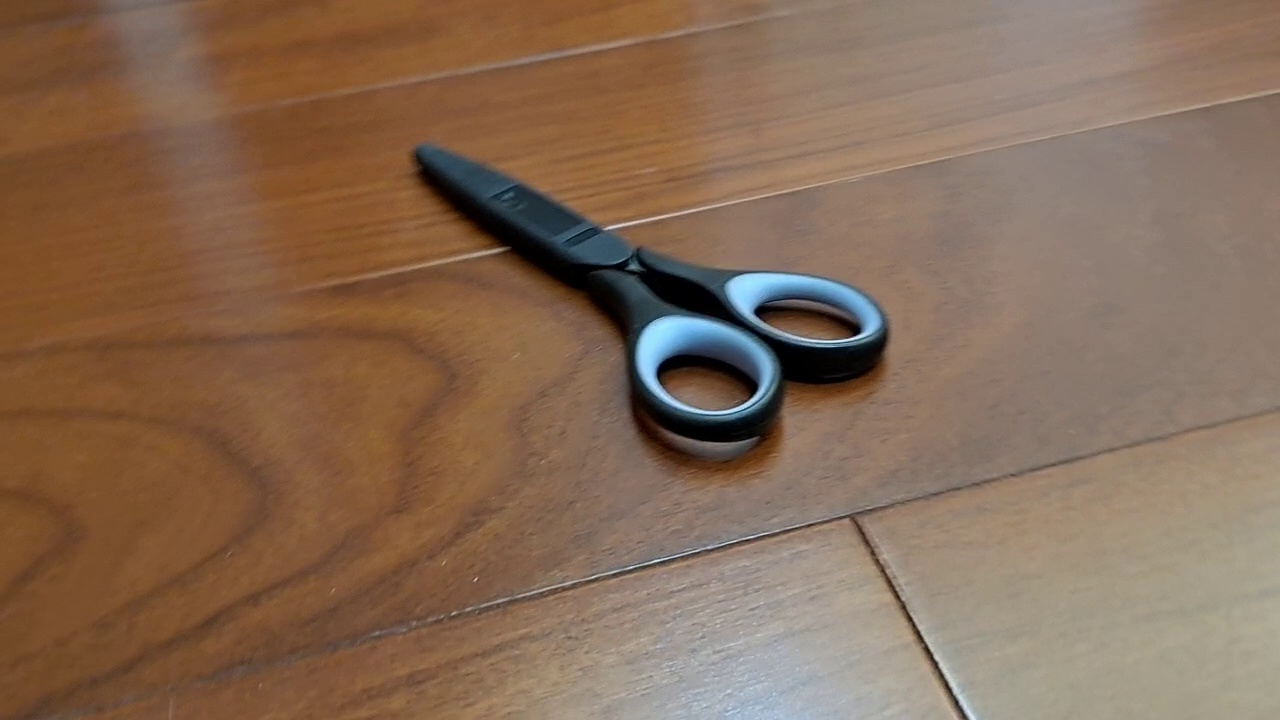scissors: (408, 140, 892, 444)
